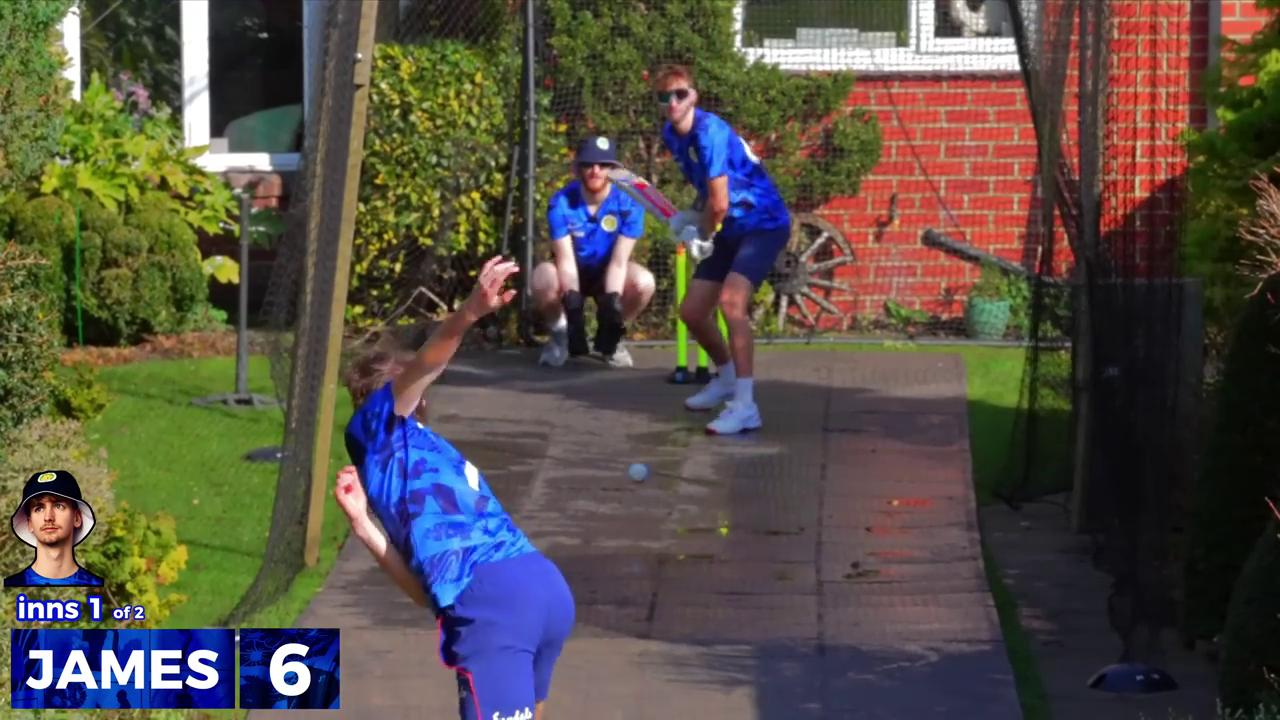ball: (620, 455, 658, 492)
